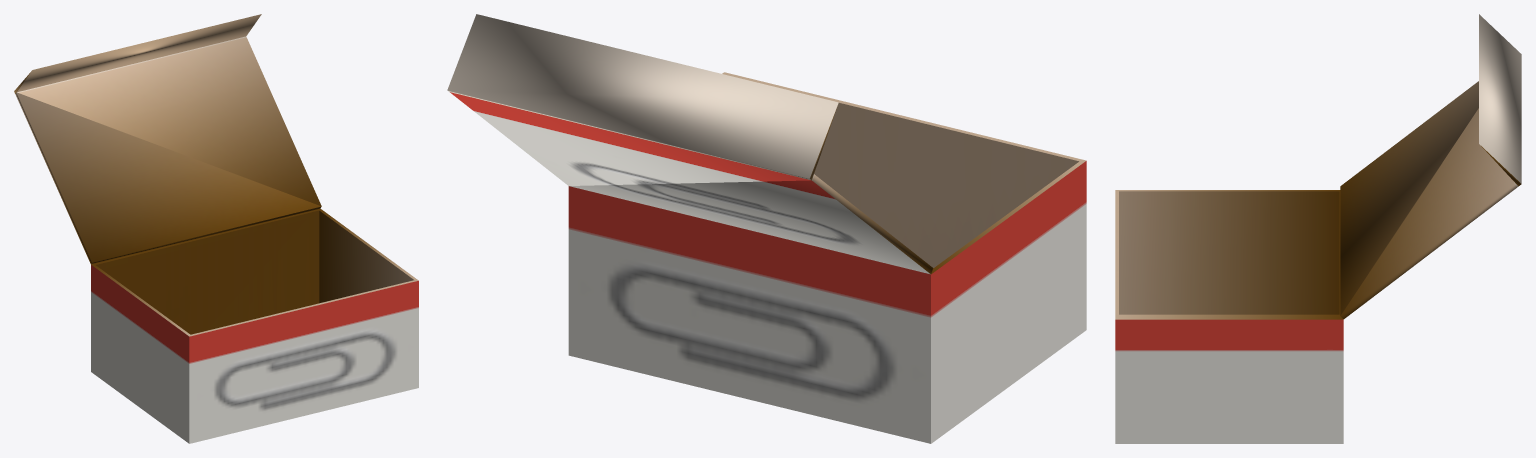
Rendered from PaperclipBoxV2Empty.fbx.
The picture shows the model from 3 angles, left to right: view 1: azimuth 30°, elevation 25°; view 2: azimuth 150°, elevation 25°; view 3: azimuth 270°, elevation 25°; orthographic projection. The views are drawn at different scales.
Parts seen in each view (by area): view 1: PaperclipBoxV2; view 2: PaperclipBoxV2; view 3: PaperclipBoxV2.
Part boxes in pixels (x1=…): PaperclipBoxV2: x1=14, y1=14, x2=418, y2=443; PaperclipBoxV2: x1=447, y1=14, x2=1086, y2=443; PaperclipBoxV2: x1=1115, y1=14, x2=1521, y2=443.
Size of the model in its own units: 14.2 by 15.31 by 18.8.
